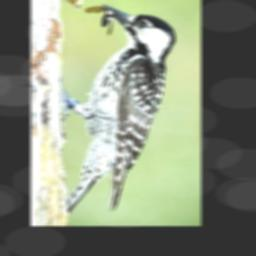Woodpecker: (66, 4, 176, 216)
